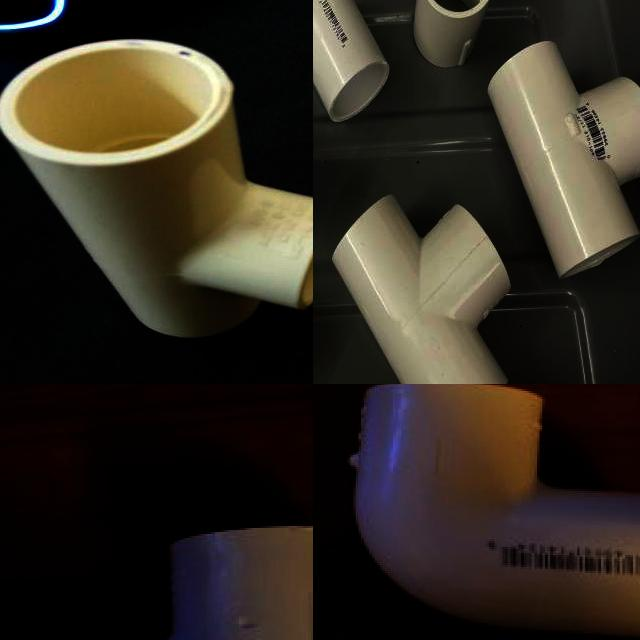L Joint: (347, 384, 640, 640)
T Joint: (0, 39, 313, 340), (486, 41, 640, 281), (330, 195, 512, 384)
